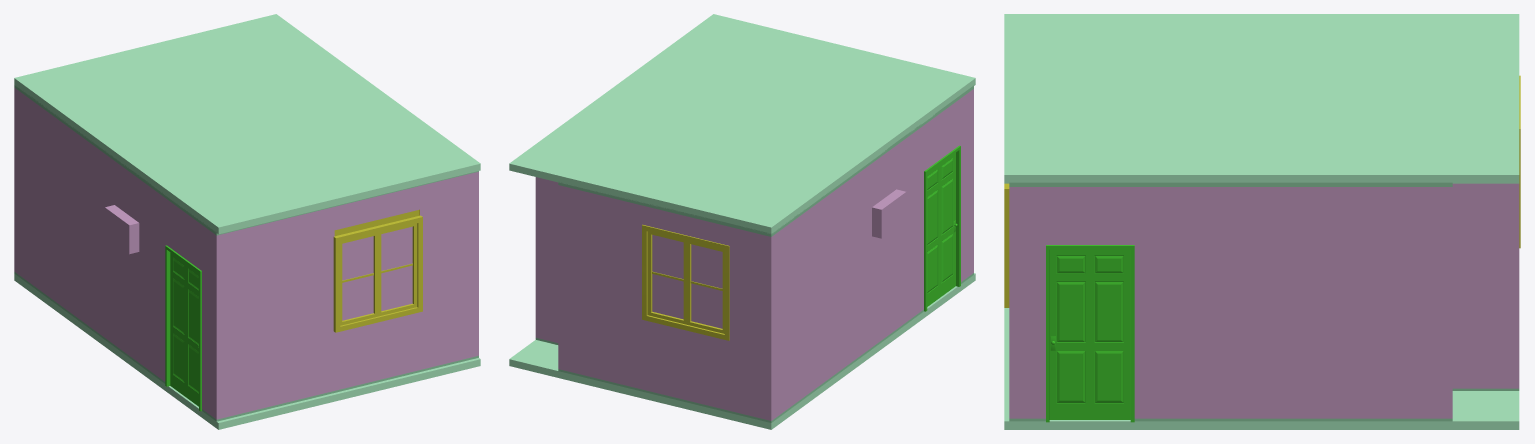
The model's file is FloorPlan14.fbx.
The picture shows the model from 3 angles, left to right: view 1: azimuth 30°, elevation 25°; view 2: azimuth 150°, elevation 25°; view 3: azimuth 270°, elevation 25°; orthographic projection. The views are drawn at different scales.
Parts seen in each view (by area): view 1: StandardWallSize, Ceiling, WindowPane2, Window (2), Floor, StandardDoor1 (2), StandardDoorFrame1 (2); view 2: StandardWallSize, Ceiling, WindowPane1, Floor, Window, StandardDoor1 (2), StandardDoorFrame1 (2); view 3: StandardWallSize, Ceiling, StandardDoor1, Floor, StandardDoorFrame1, Window (2).
Boxes of the visible parts, bbox=[...] form: StandardWallSize: bbox=[14, 85, 478, 421]; Ceiling: bbox=[14, 14, 480, 234]; WindowPane2: bbox=[342, 226, 412, 320]; Window (2): bbox=[333, 209, 422, 332]; Floor: bbox=[14, 274, 480, 429]; StandardDoor1 (2): bbox=[170, 252, 198, 406]; StandardDoorFrame1 (2): bbox=[165, 245, 201, 411]; StandardWallSize: bbox=[535, 85, 973, 422]; Ceiling: bbox=[509, 14, 975, 234]; WindowPane1: bbox=[652, 235, 722, 328]; Floor: bbox=[509, 273, 975, 429]; Window: bbox=[642, 224, 729, 340]; StandardDoor1 (2): bbox=[927, 152, 955, 306]; StandardDoorFrame1 (2): bbox=[924, 145, 960, 311]; StandardWallSize: bbox=[1009, 182, 1519, 421]; Ceiling: bbox=[1004, 14, 1519, 183]; StandardDoor1: bbox=[1049, 249, 1130, 419]; Floor: bbox=[1004, 308, 1519, 429]; StandardDoorFrame1: bbox=[1046, 245, 1134, 422]; Window (2): bbox=[1004, 183, 1009, 307].
Bounding box in the file's own units: 418 × 295 × 542.
